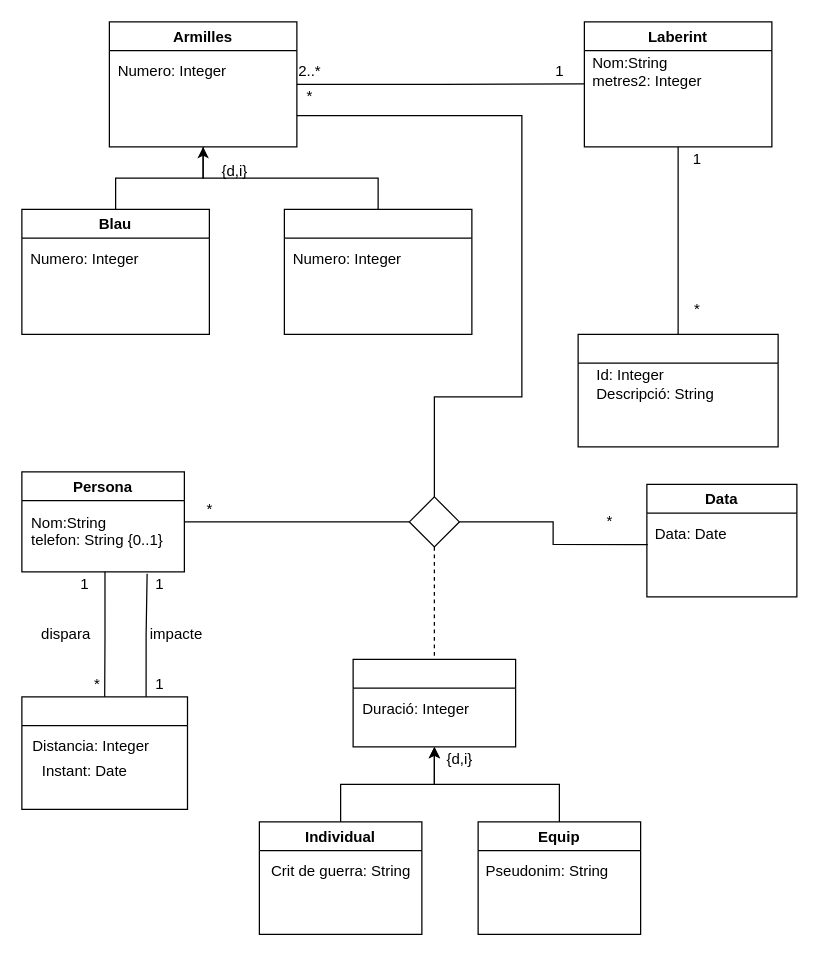
The diagram is 819 pixels wide and 956 high, and some of its shapes have lost their labels. Each missing label, with the box of its shape:
Maquina Fum: (577, 333, 778, 447)
Partida: (352, 658, 516, 747)
Taronja: (283, 208, 472, 334)
Tret: (21, 696, 188, 809)
